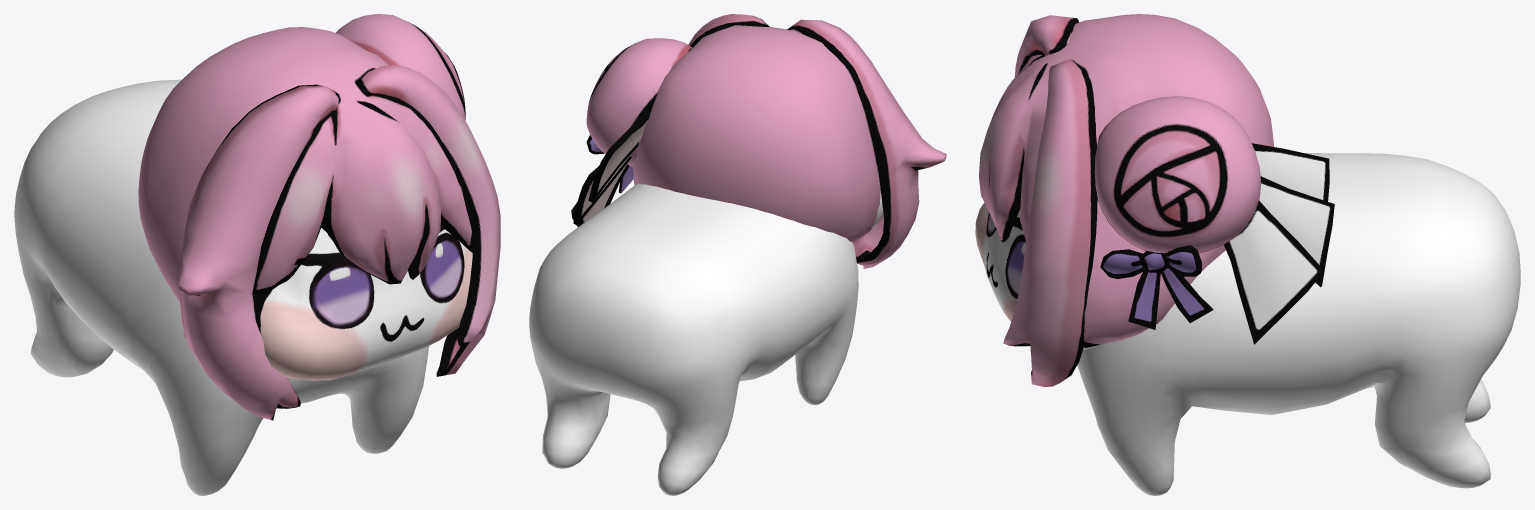
File: doro.fbx
The picture shows the model from 3 angles, left to right: view 1: azimuth 30°, elevation 25°; view 2: azimuth 150°, elevation 25°; view 3: azimuth 270°, elevation 25°; orthographic projection. The views are drawn at different scales.
Visible parts, largest first — view 1: CH_NPC_Dororong_LOD0; view 2: CH_NPC_Dororong_LOD0; view 3: CH_NPC_Dororong_LOD0.
Part boxes in pixels (box(x1,y1,x2,y2)): CH_NPC_Dororong_LOD0: box(14, 14, 500, 495); CH_NPC_Dororong_LOD0: box(529, 14, 946, 495); CH_NPC_Dororong_LOD0: box(975, 14, 1520, 495).
Bounding box in the file's own units: 34.37 × 39.61 × 46.64.
Materials: 1 (1 with a texture image).
